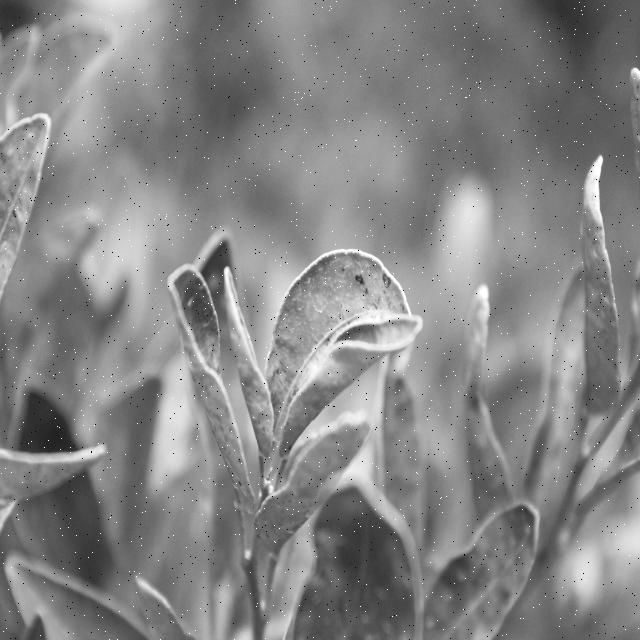canker: (277, 260, 408, 376), (178, 297, 250, 500), (312, 509, 402, 640), (454, 517, 529, 630)
